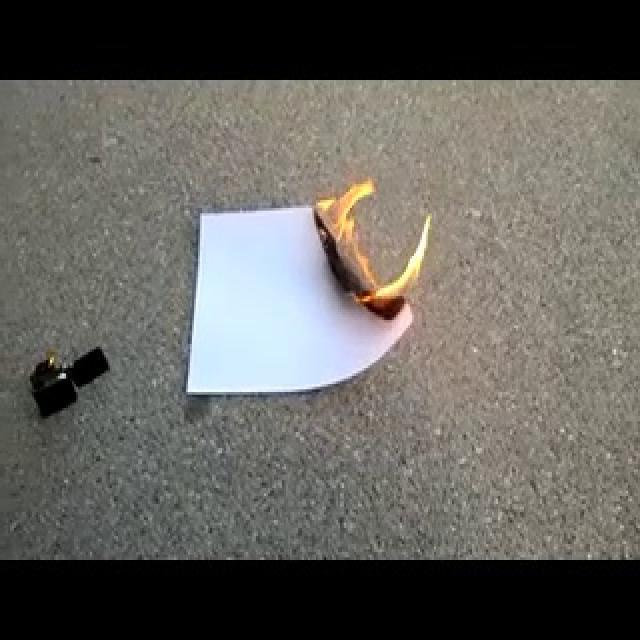fire: (315, 164, 441, 322)
